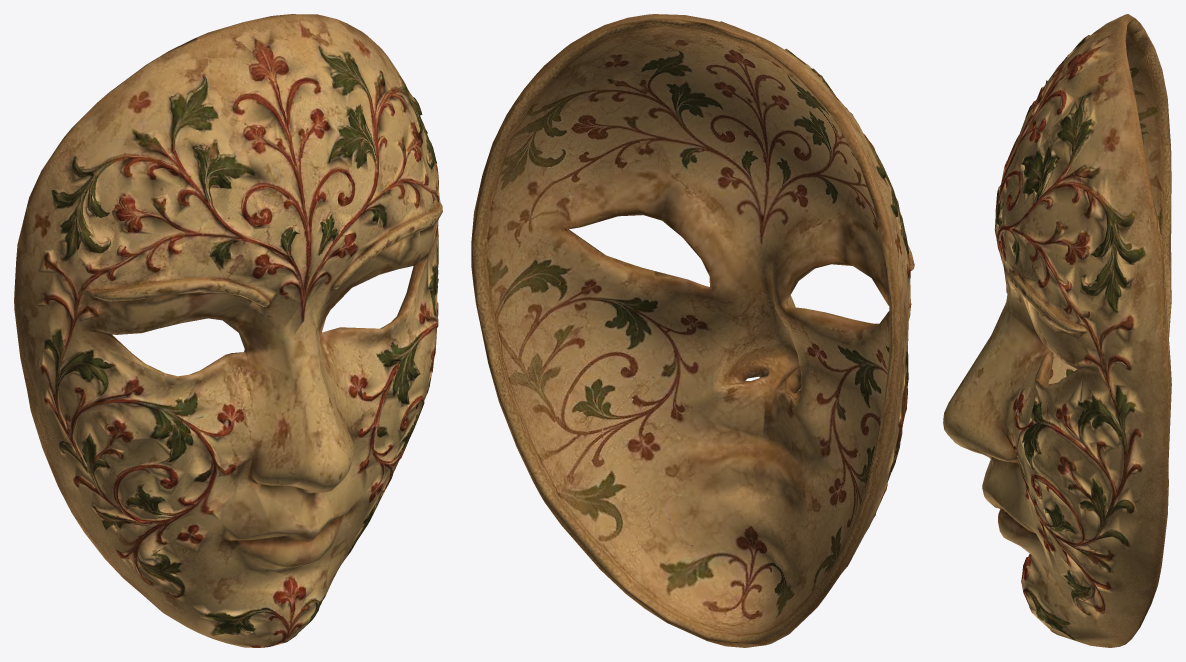
Rendered from mk3d1-b9eab0c7.glb.
3 renders of one model, left to right at view 1: azimuth 30°, elevation 25°; view 2: azimuth 150°, elevation 25°; view 3: azimuth 270°, elevation 25°, orthographic. The views are drawn at different scales.
Bounding box in the file's own units: 1.36 × 1.9 × 0.6544.
Materials: 1 (1 with a texture image).
